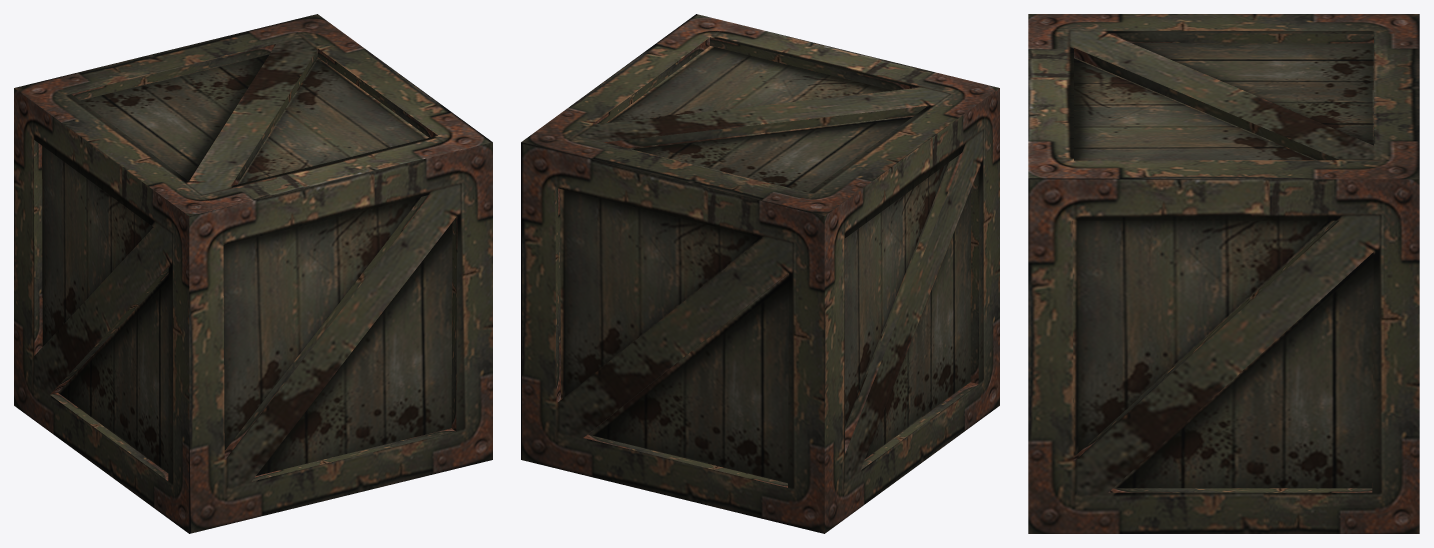
The model's file is O_CR_001_kibako_01_10.fbx.
3 views of the same model, side by side, from view 1: azimuth 30°, elevation 25°; view 2: azimuth 150°, elevation 25°; view 3: azimuth 270°, elevation 25° (orthographic). The views are drawn at different scales.
Parts seen in each view (by area): view 1: Box007; view 2: Box007; view 3: Box007.
Part boxes in pixels (x1,y1,x2,y2): Box007: (14,14,492,533); Box007: (521,14,999,533); Box007: (1028,14,1419,533).
Bounding box in the file's own units: 23.62 × 23.62 × 23.62.
